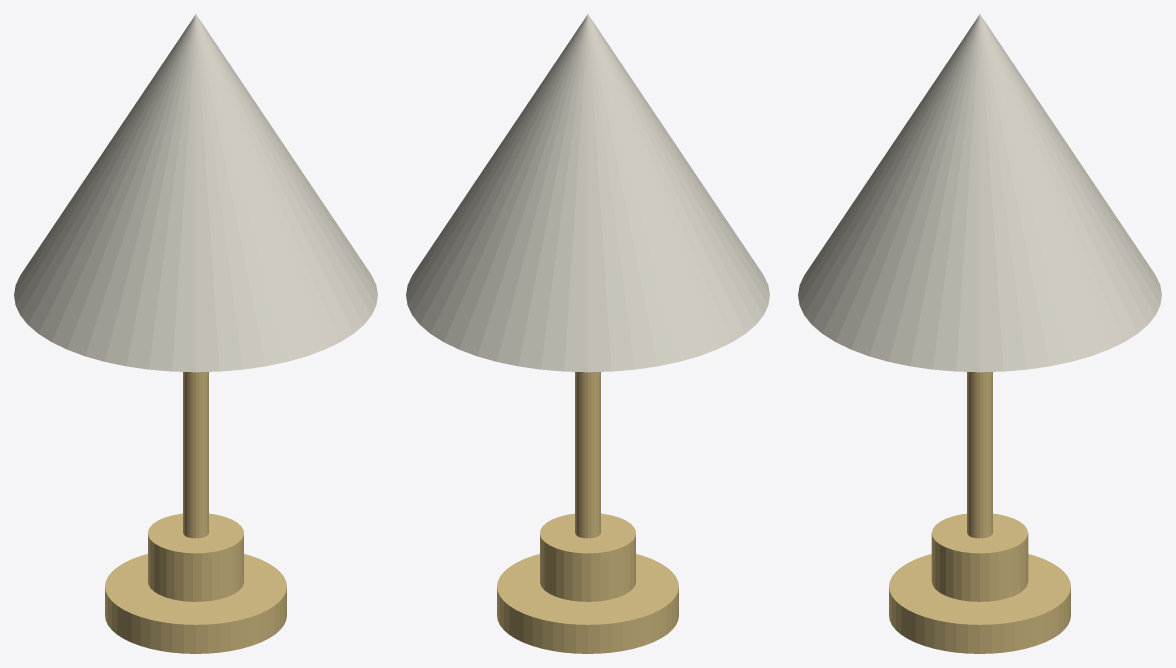
File: example-brass-lamp.glb
3 views of the same model, side by side, from view 1: azimuth 30°, elevation 25°; view 2: azimuth 150°, elevation 25°; view 3: azimuth 270°, elevation 25° (orthographic).
Parts seen in each view (by area): view 1: shade, base, collar, stem; view 2: shade, base, collar, stem; view 3: shade, base, collar, stem.
Part boxes in pixels (x1,y1,x2,y2): shade: (14, 14, 377, 372); base: (105, 554, 286, 653); collar: (148, 513, 243, 601); stem: (183, 372, 208, 538); shade: (406, 14, 769, 372); base: (497, 554, 678, 653); collar: (540, 513, 635, 601); stem: (575, 372, 600, 538); shade: (798, 14, 1161, 372); base: (889, 554, 1070, 653); collar: (931, 513, 1028, 601); stem: (967, 372, 992, 538).
Size of the model in its own units: 0.34 by 0.62 by 0.34.
